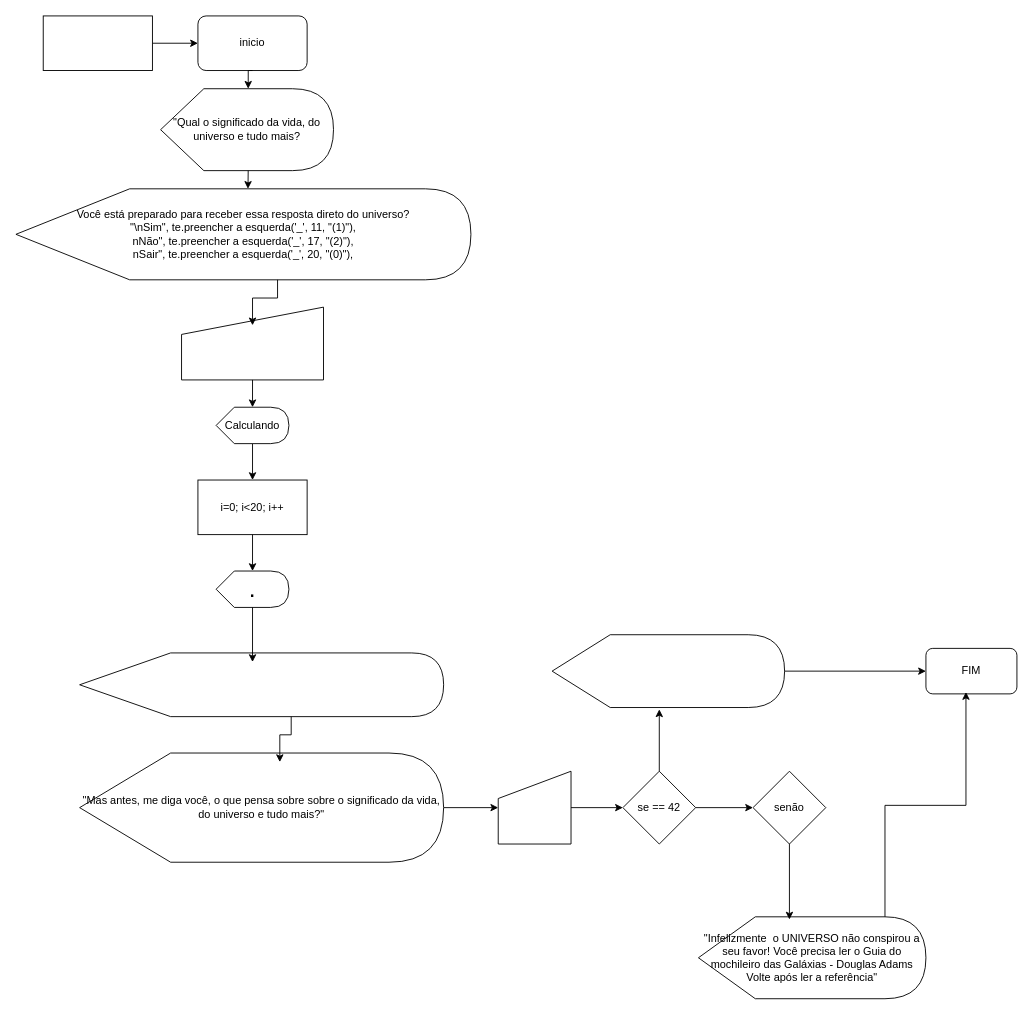
This 1033x1015 diagram has some shape labels left out. The shapes that lost their labels are listed below. From the top down, each one's centre as x and y in pixels, then its label:
point (97, 43): inteiro opcao cadeia resposta
point (252, 343): opcao
point (261, 684): "Não importa qual foi sua opcao, vou te responder essa pergunta."
point (668, 671): "Boa resposta, agora ja pode seguir para a próxima disciplina!"
point (534, 807): resposta
